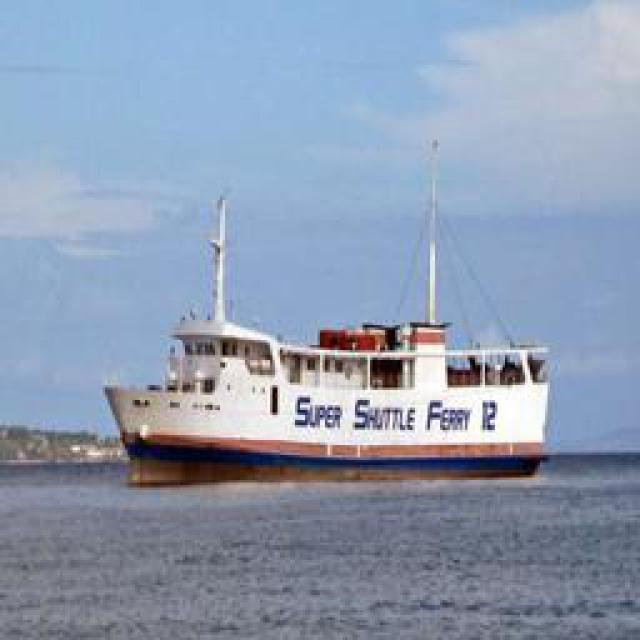Ship: (109, 163, 564, 471)
